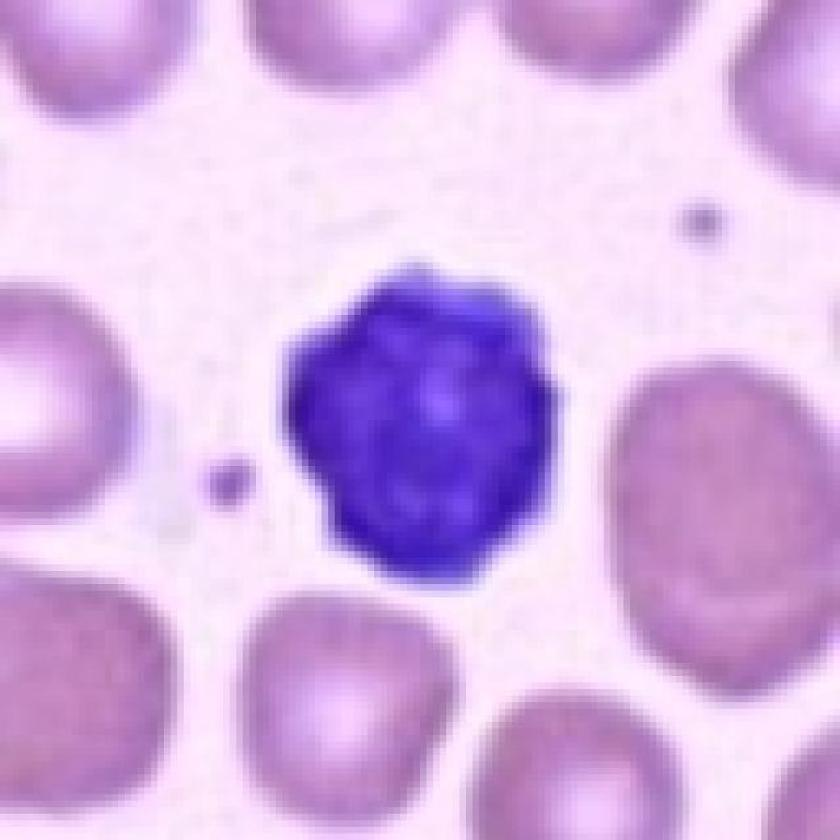lymphocyte: (273, 250, 567, 597)
